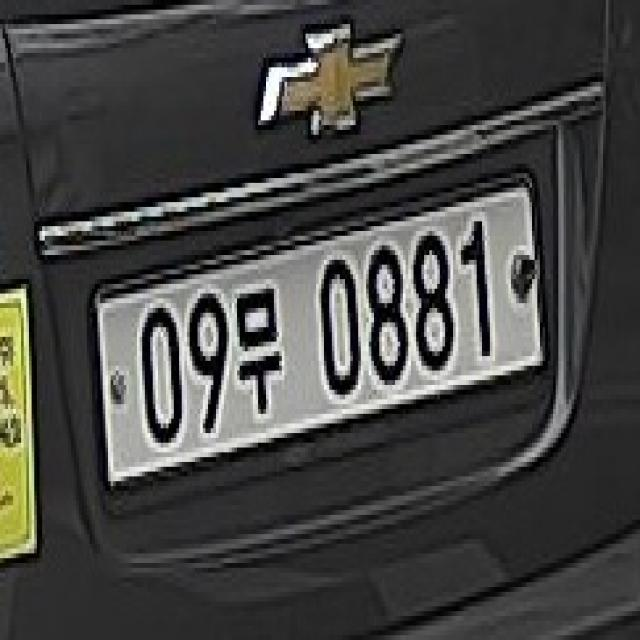0: (138, 294, 184, 456), (317, 250, 362, 400)
1: (459, 208, 501, 372)
8: (412, 227, 458, 380), (367, 230, 407, 392)
9: (187, 286, 230, 444)
license_plate: (78, 160, 550, 536)
mu: (234, 283, 287, 424)
